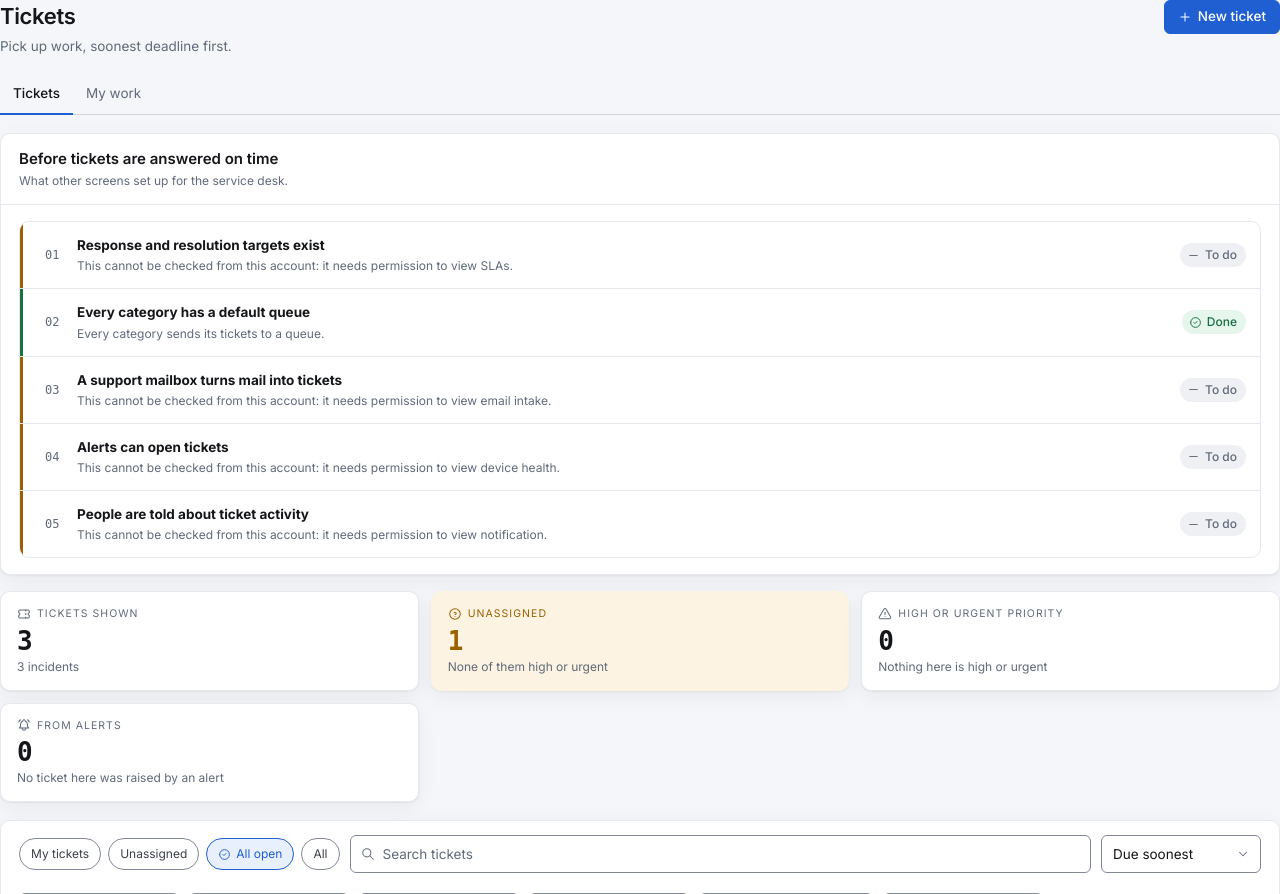
Test: the ticket queue › narrows to All on the server
Click the button "All".
click(320, 854)  # box x1=301 y1=838 x2=340 y2=870
(page scrolled)
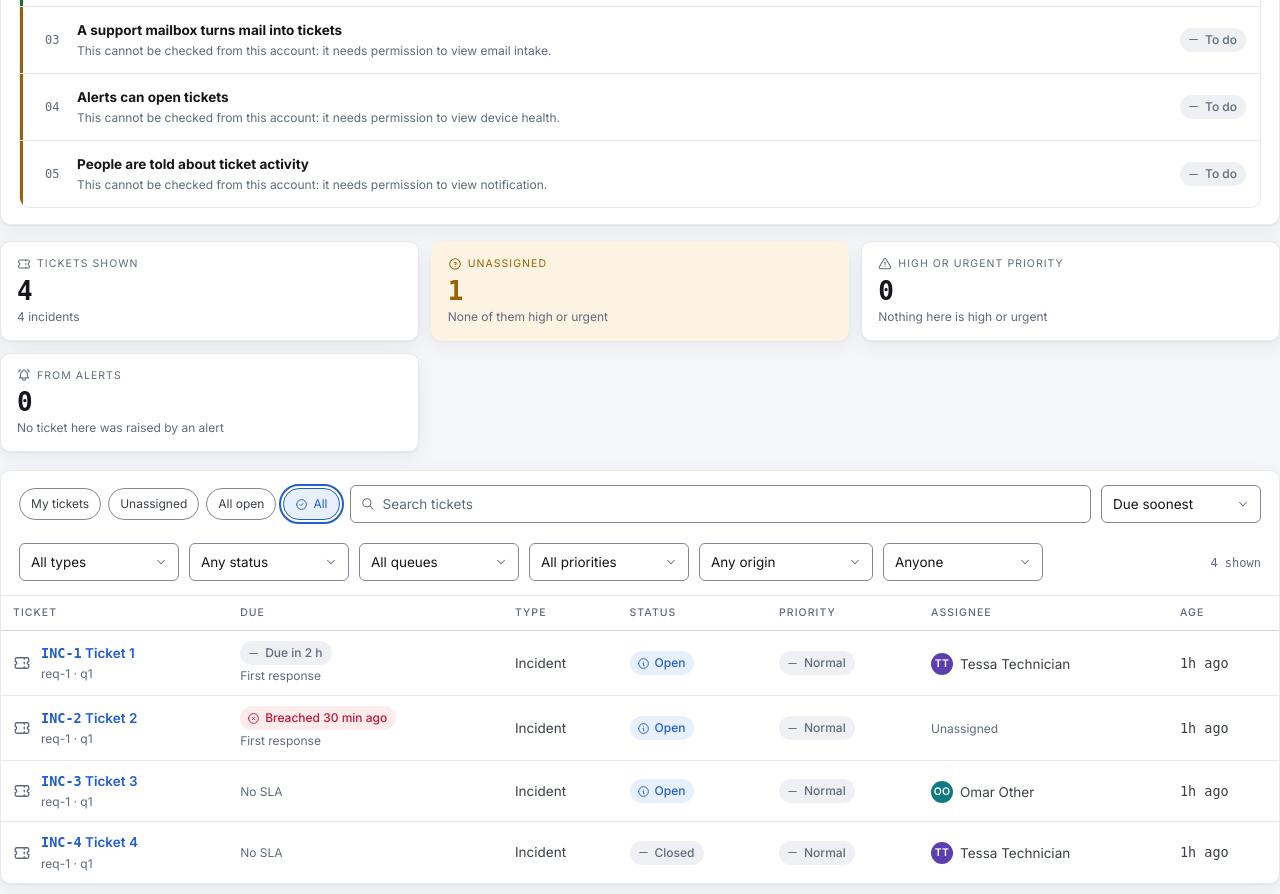
Expected: the link "INC-1" is shown, x1=41 y1=645 x2=82 y2=661
Now the link "INC-4" is shown, box x1=41 y1=834 x2=82 y2=850
